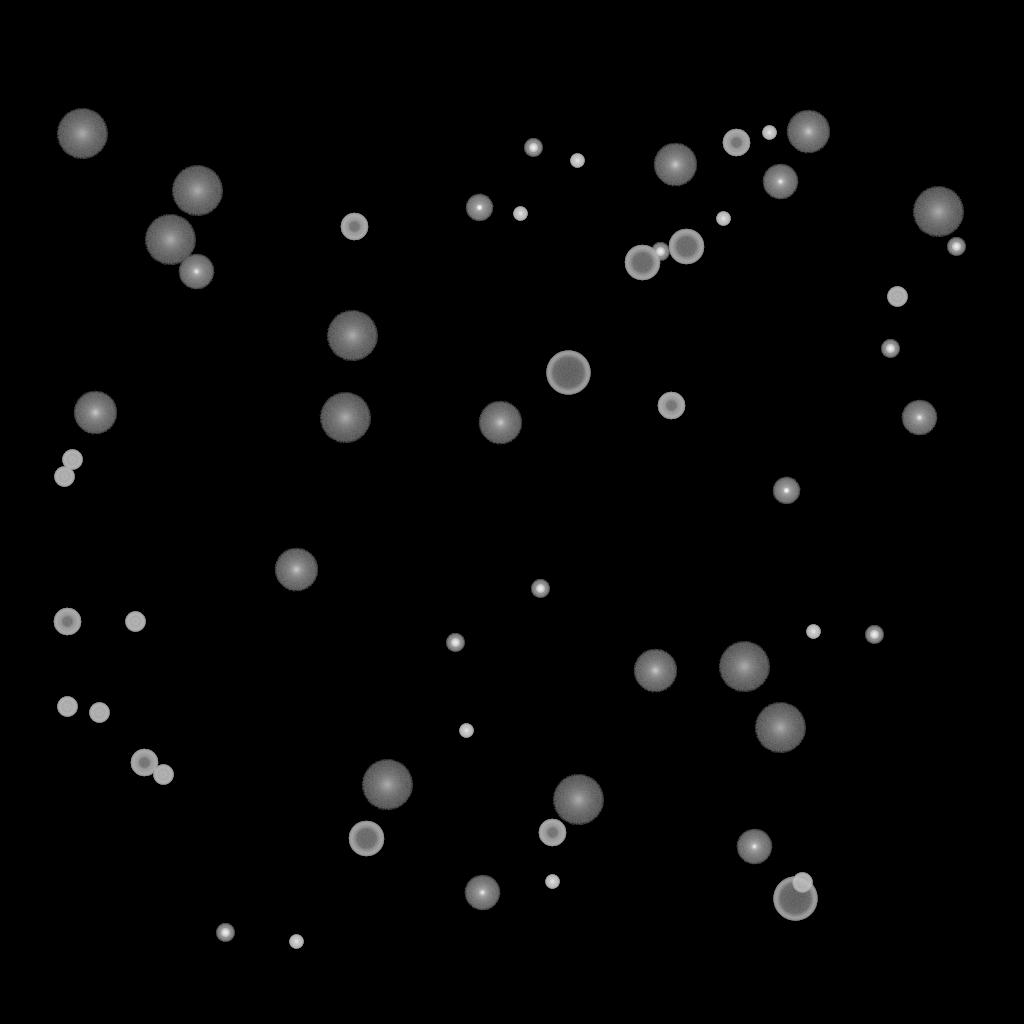depth:-10: (772, 477, 800, 505), (465, 194, 493, 222)
depth:-20: (651, 243, 669, 261), (446, 634, 464, 652), (524, 139, 542, 157), (865, 626, 883, 644), (947, 238, 965, 256), (531, 580, 549, 598), (216, 924, 234, 942), (881, 340, 899, 358)
depth:-30: (513, 207, 527, 221), (289, 935, 303, 949), (716, 212, 730, 226), (545, 875, 559, 889), (806, 625, 820, 639), (459, 724, 473, 738), (570, 154, 584, 168), (762, 126, 776, 140)
depth:-40: (153, 765, 173, 785), (887, 287, 907, 307), (125, 612, 145, 632), (62, 450, 82, 470), (89, 703, 109, 723), (792, 873, 812, 893), (57, 697, 77, 717), (54, 467, 74, 487)
depth:-50: (722, 129, 750, 157), (53, 608, 81, 636), (538, 819, 566, 847), (657, 392, 685, 420), (130, 749, 158, 777), (340, 213, 368, 241)
depth:-60: (624, 245, 660, 281), (668, 229, 704, 265), (348, 821, 384, 857)
depth:-70: (546, 351, 590, 395), (773, 877, 817, 921)
depth:0: (464, 875, 500, 911), (762, 164, 798, 200), (736, 829, 772, 865), (178, 254, 214, 290), (901, 400, 937, 436)
depth:10: (633, 649, 677, 693), (653, 143, 697, 187), (786, 110, 830, 154), (73, 391, 117, 435), (478, 401, 522, 445), (274, 548, 318, 592)
depth:20: (361, 760, 413, 810), (552, 775, 604, 825), (171, 166, 223, 216), (144, 215, 196, 265), (56, 109, 108, 159), (754, 703, 806, 753), (319, 393, 371, 443), (912, 187, 964, 237), (718, 642, 770, 692), (326, 311, 378, 361)
